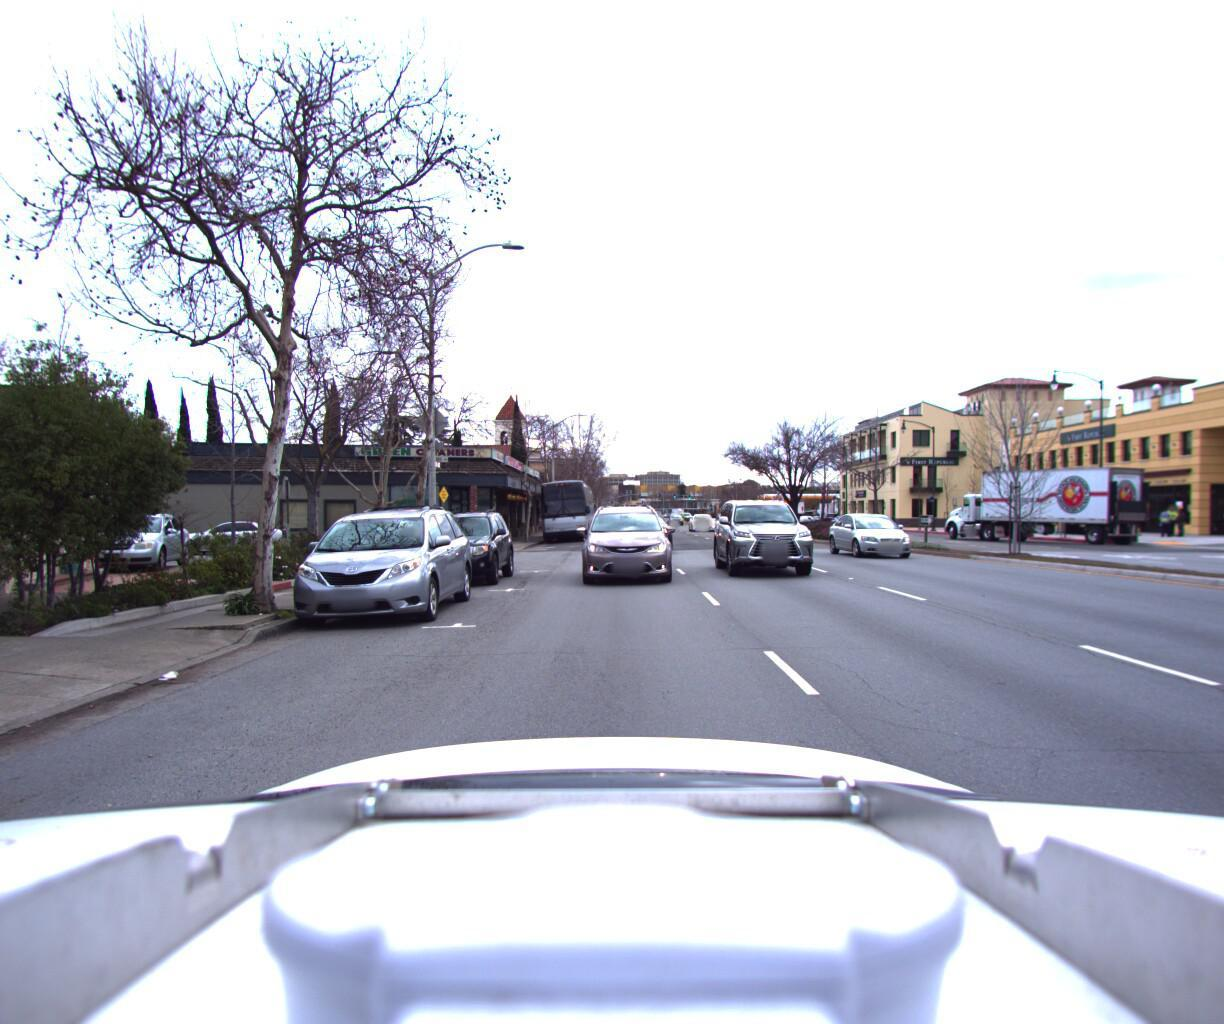bus: (535, 478, 593, 545)
car: (273, 496, 477, 642), (713, 491, 834, 583), (404, 507, 519, 587), (66, 507, 195, 576), (575, 494, 671, 586), (835, 508, 936, 559), (180, 519, 295, 555), (626, 505, 690, 555), (689, 509, 719, 528)
truck: (922, 463, 1158, 545)
